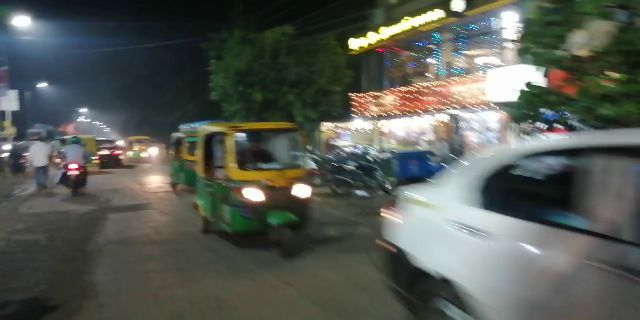Autorickshaw: (202, 119, 322, 258)
Car: (367, 128, 640, 320)
Motorbike: (59, 134, 92, 200)
